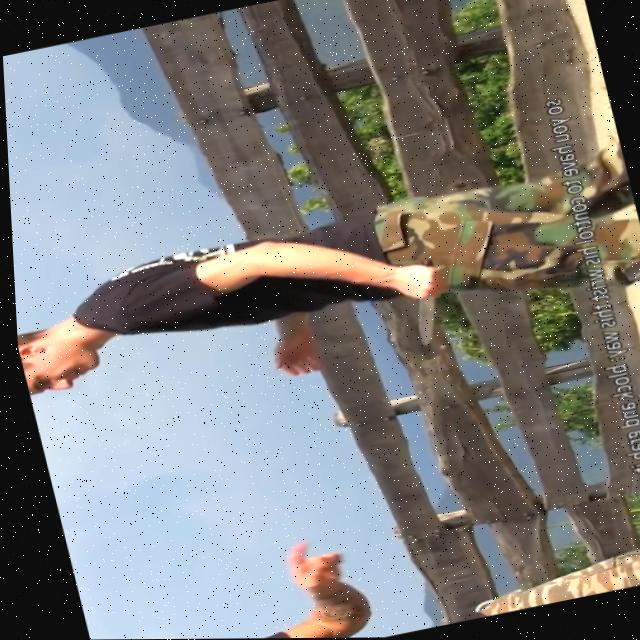knife: (405, 295, 449, 348)
